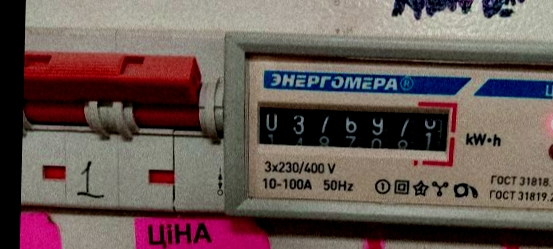0: (262, 107, 276, 130)
1: (419, 128, 432, 149)
3: (289, 111, 304, 134)
6: (341, 108, 356, 132)
7: (314, 109, 329, 132), (395, 113, 409, 136)
9: (367, 111, 382, 134)
screen: (245, 90, 458, 168)
